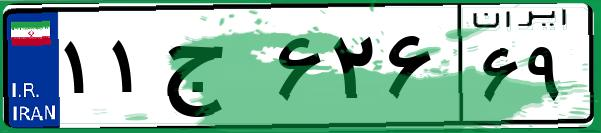1: (57, 26, 110, 100), (110, 28, 158, 98)
2: (330, 28, 385, 110)
6: (270, 28, 330, 110), (385, 28, 445, 110), (475, 38, 525, 113)
9: (525, 38, 570, 115)
ج: (158, 20, 270, 120)
